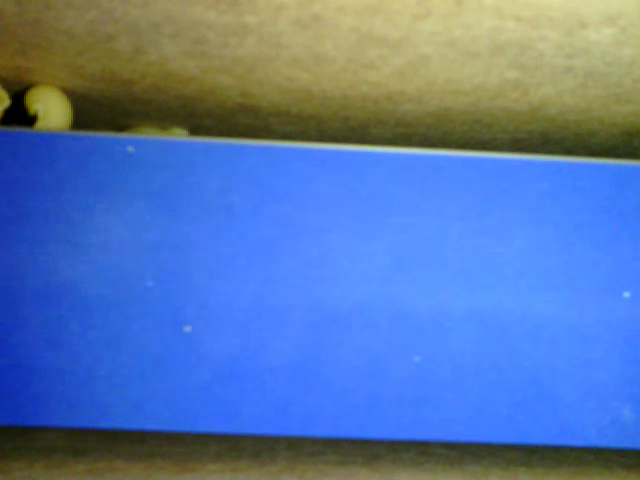shell: (22, 86, 75, 130)
